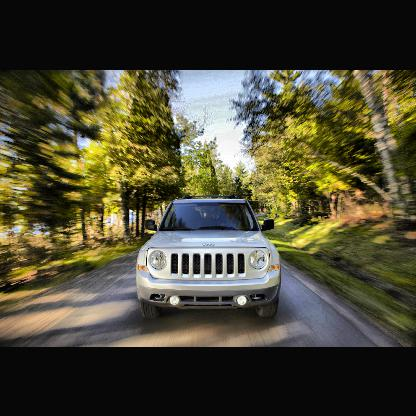Jeep Patriot SUV 2012: (136, 198, 284, 324)
